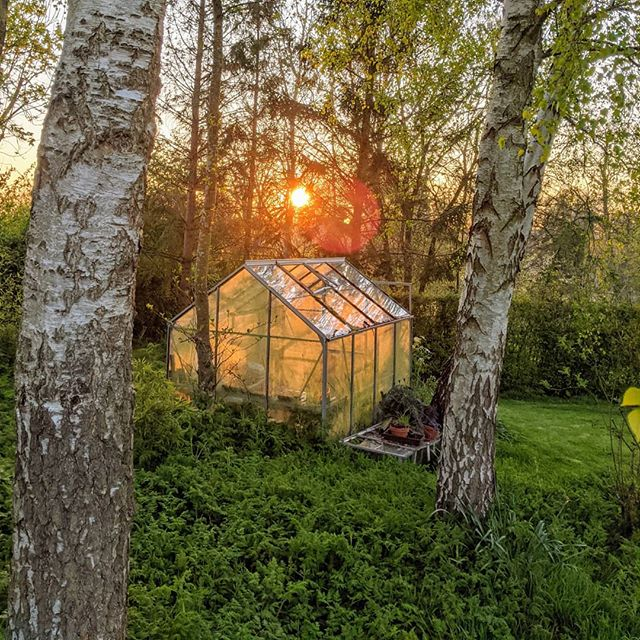building: (164, 259, 425, 468)
tree: (33, 1, 187, 637), (411, 22, 604, 522)
vegetation: (1, 1, 617, 268), (46, 376, 640, 640)
